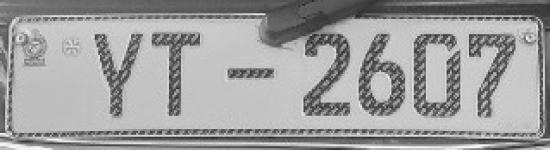-: (223, 64, 278, 83)
0: (414, 31, 467, 129)
2: (302, 30, 354, 123)
6: (356, 25, 408, 124)
7: (466, 29, 517, 124)
T: (150, 28, 208, 123)
Y: (91, 25, 149, 127)
